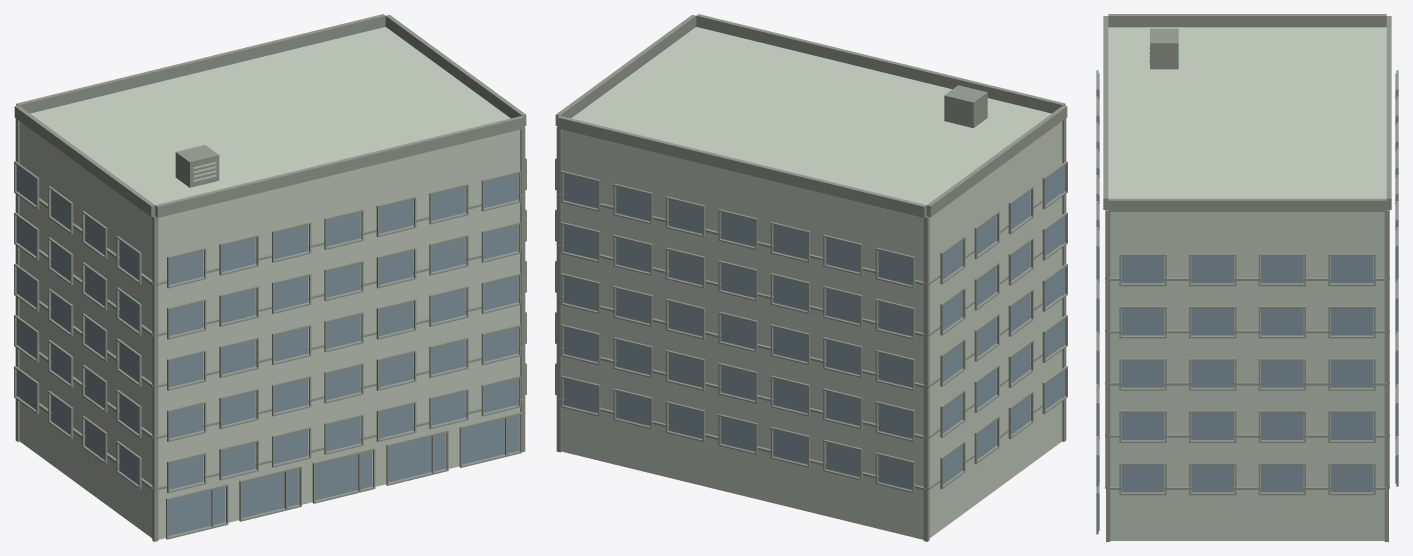
The model's file is lot_3x2.glb.
The picture shows the model from 3 angles, left to right: view 1: azimuth 30°, elevation 25°; view 2: azimuth 150°, elevation 25°; view 3: azimuth 270°, elevation 25°; orthographic projection. The views are drawn at different scales.
Visible parts, largest first — view 1: lot_3x2; view 2: lot_3x2; view 3: lot_3x2.
Boxes of the visible parts, bbox=[...] form: lot_3x2: bbox=[14, 14, 526, 541]; lot_3x2: bbox=[555, 14, 1067, 541]; lot_3x2: bbox=[1096, 14, 1398, 541].
Bounding box in the file's own units: 23.74 × 20.5 × 15.74.
